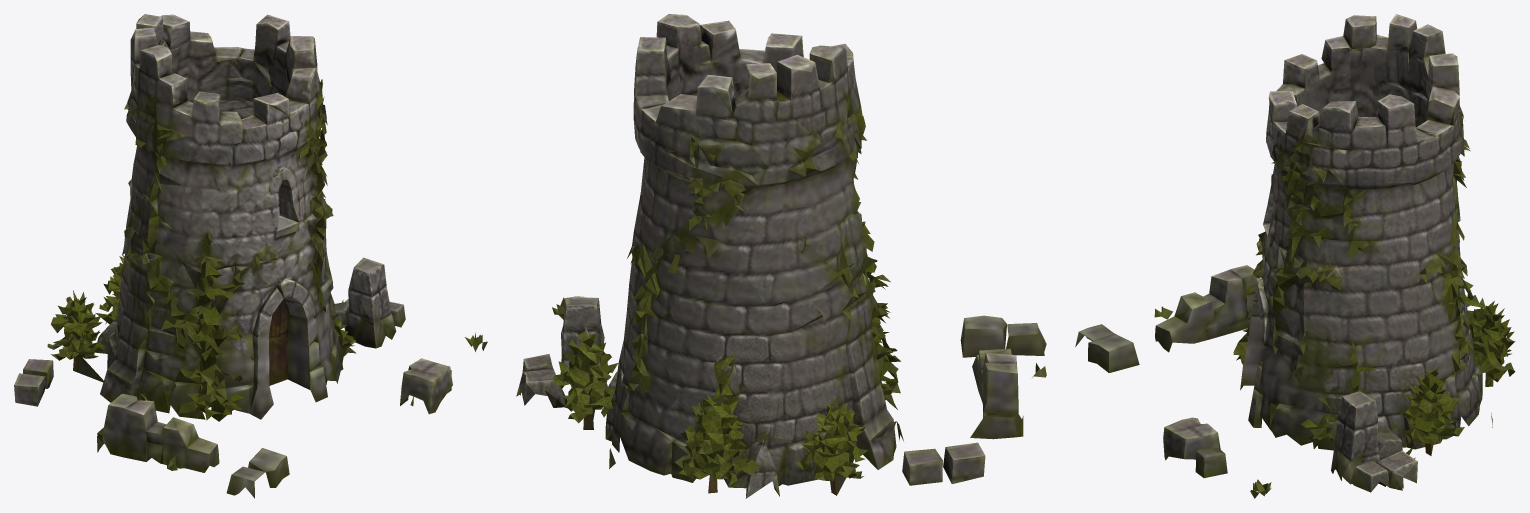
File: tower.glb
The picture shows the model from 3 angles, left to right: view 1: azimuth 30°, elevation 25°; view 2: azimuth 150°, elevation 25°; view 3: azimuth 270°, elevation 25°; orthographic projection. The views are drawn at different scales.
Size of the model in its own units: 1.86 by 1.46 by 1.65.
1 material, 1 textured.
